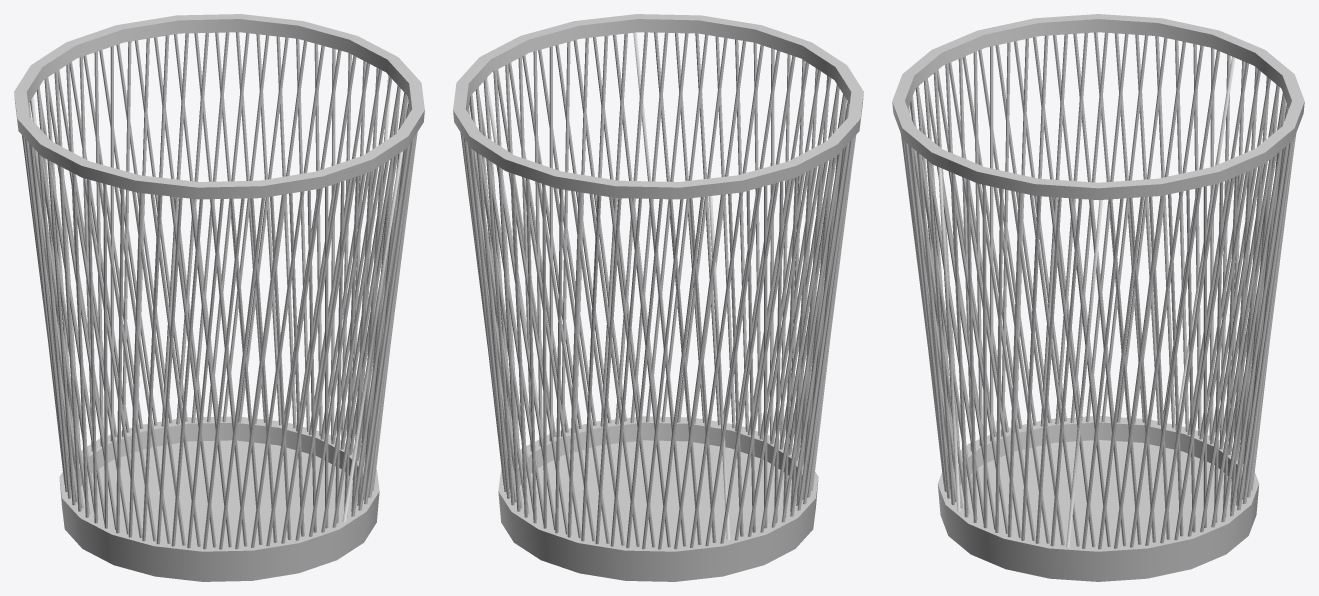
Rendered from Tacho(1).fbx.
The picture shows the model from 3 angles, left to right: view 1: azimuth 30°, elevation 25°; view 2: azimuth 150°, elevation 25°; view 3: azimuth 270°, elevation 25°; orthographic projection.
Visible parts, largest first — view 1: Tacho; view 2: Tacho; view 3: Tacho.
Boxes of the visible parts, x1=… form: Tacho: x1=14, y1=14, x2=424, y2=581; Tacho: x1=453, y1=14, x2=863, y2=581; Tacho: x1=892, y1=14, x2=1304, y2=581.
Bounding box in the file's own units: 27.62 × 30.61 × 27.62.
Materials: 1 (1 with a texture image).
